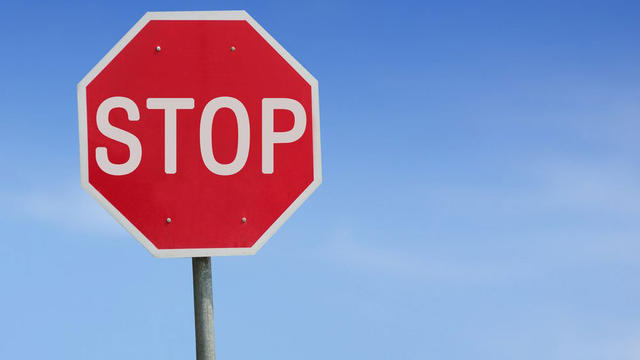stop: (85, 10, 323, 259), (81, 7, 323, 218), (84, 74, 322, 260), (85, 9, 252, 258), (79, 6, 235, 260)
